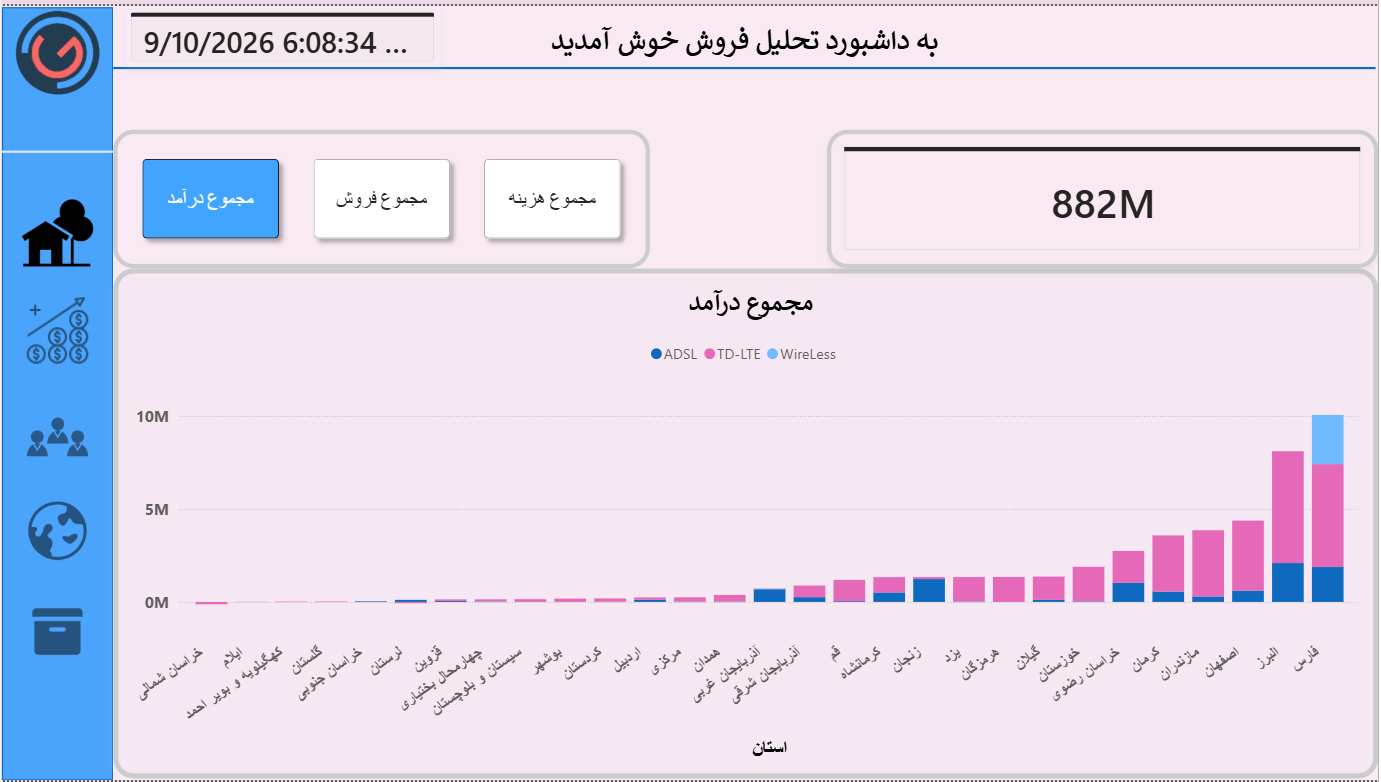

The page's visual inventory and layout, read from the dashboard file:
{"tool":"powerbi","page":{"name":"منو","canvas":[1280,720],"ordinal":0},"visuals":[{"type":"shape","box":[103,0,1174.3,115.4],"z":0},{"type":"shape","box":[0,1.4,103.3,719.2],"z":1000},{"type":"image","box":[0,0,103.3,90.1],"z":2000},{"type":"shape","box":[0,58.8,103.3,152.5],"z":3000},{"type":"image","box":[0,178.1,103.3,66],"z":4000},{"type":"image","box":[0,270.2,103.3,63.6],"z":5000},{"type":"image","box":[0,360.2,103.3,80.5],"z":6000},{"type":"image","box":[0,457.7,103,59.8],"z":7000},{"type":"image","box":[0,552.3,103.3,58.8],"z":8000},{"type":"lineStackedColumnComboChart","fields":{"Category":["فروش (2).استان","فروش (2).شهر"],"Series":["فروش (2).نوع سرویس"],"Y":["measures(2).Dynamic measure"]},"box":[103.3,243.8,1176.7,474.3],"z":9000},{"type":"advancedSlicerVisual","title":"Dynamic Measure","fields":{"Values":["measures-1.Column1"]},"box":[103.3,115.3,499.5,128.5],"z":10000},{"type":"cardVisual","fields":{"Data":["measures-1.Dynamic measure"]},"box":[767.3,115.3,512.7,128.5],"z":11000},{"type":"shape","title":"به داشبورد تحلیل فروش خوش آمدید","box":[466.7,14.9,449.1,58.8],"z":15000},{"type":"cardVisual","fields":{"Data":["measures(1).Current DateTime"]},"box":[115.7,1.4,292.1,56.4],"z":19000}]}

Visuals, with their boxes on the page's 1280x720 design canvas (x1, y1, x2, y2). These are canvas units, not pixel positions in the 1381x782 screenshot, which may show the page scaled, cropped or inside an application window:
shape: BBox(103, 0, 1277, 115)
shape: BBox(0, 1, 103, 721)
image: BBox(0, 0, 103, 90)
shape: BBox(0, 59, 103, 211)
image: BBox(0, 178, 103, 244)
image: BBox(0, 270, 103, 334)
image: BBox(0, 360, 103, 441)
image: BBox(0, 458, 103, 518)
image: BBox(0, 552, 103, 611)
lineStackedColumnComboChart - فروش (2).استان x فروش (2).شهر: BBox(103, 244, 1280, 718)
"Dynamic Measure" advancedSlicerVisual: BBox(103, 115, 603, 244)
cardVisual - measures-1.Dynamic measure: BBox(767, 115, 1280, 244)
"به داشبورد تحلیل فروش خوش آمدید" shape: BBox(467, 15, 916, 74)
cardVisual - measures(1).Current DateTime: BBox(116, 1, 408, 58)
